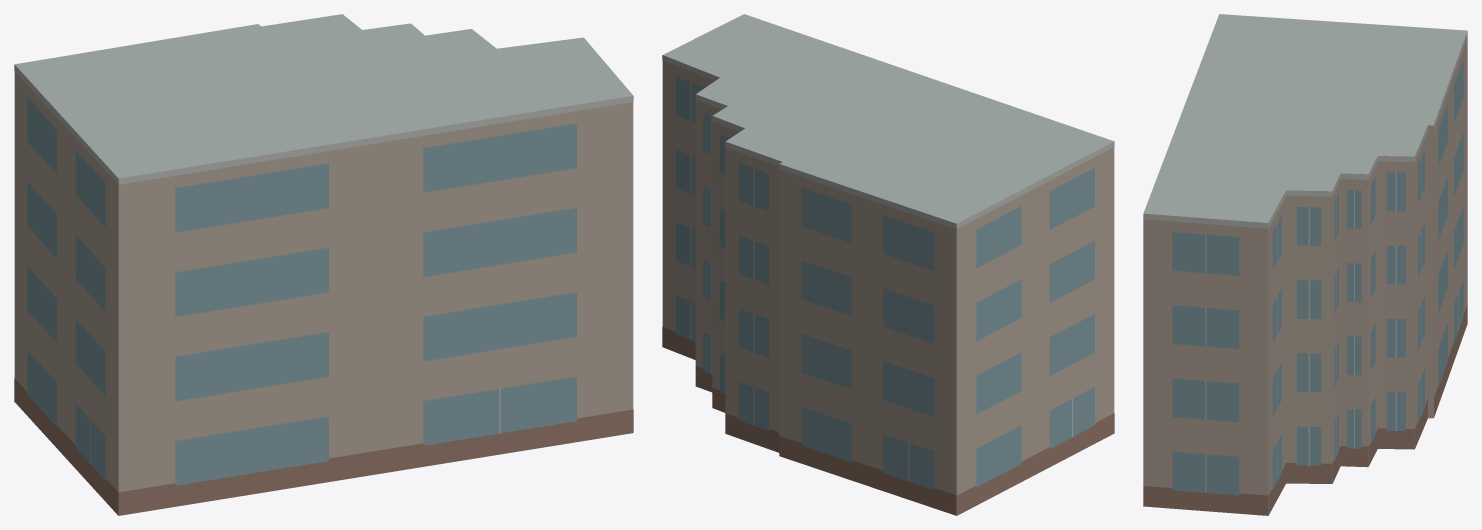
File: survey-upis-32597955.glb
3 renders of one model, left to right at view 1: azimuth 30°, elevation 25°; view 2: azimuth 150°, elevation 25°; view 3: azimuth 270°, elevation 25°, orthographic. The views are drawn at different scales.
Parts seen in each view (by area): view 1: survey-upis-32597955.tmp; view 2: survey-upis-32597955.tmp; view 3: survey-upis-32597955.tmp.
Part boxes in pixels (<box>): survey-upis-32597955.tmp: <box>14,14,633,515</box>; survey-upis-32597955.tmp: <box>662,14,1114,515</box>; survey-upis-32597955.tmp: <box>1143,14,1467,515</box>.
Size of the model in its own units: 19.61 by 12.8 by 12.86.
